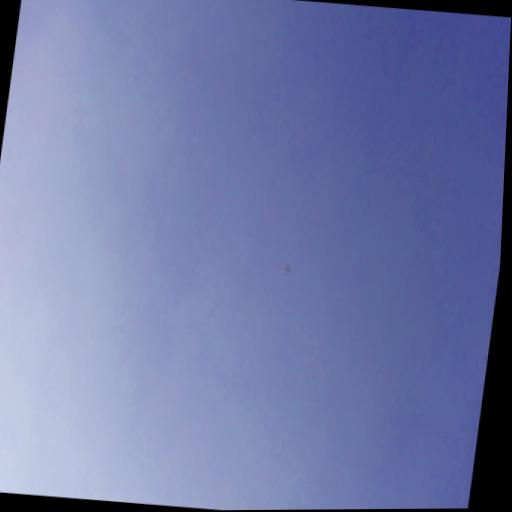drones: (282, 264, 292, 278)
